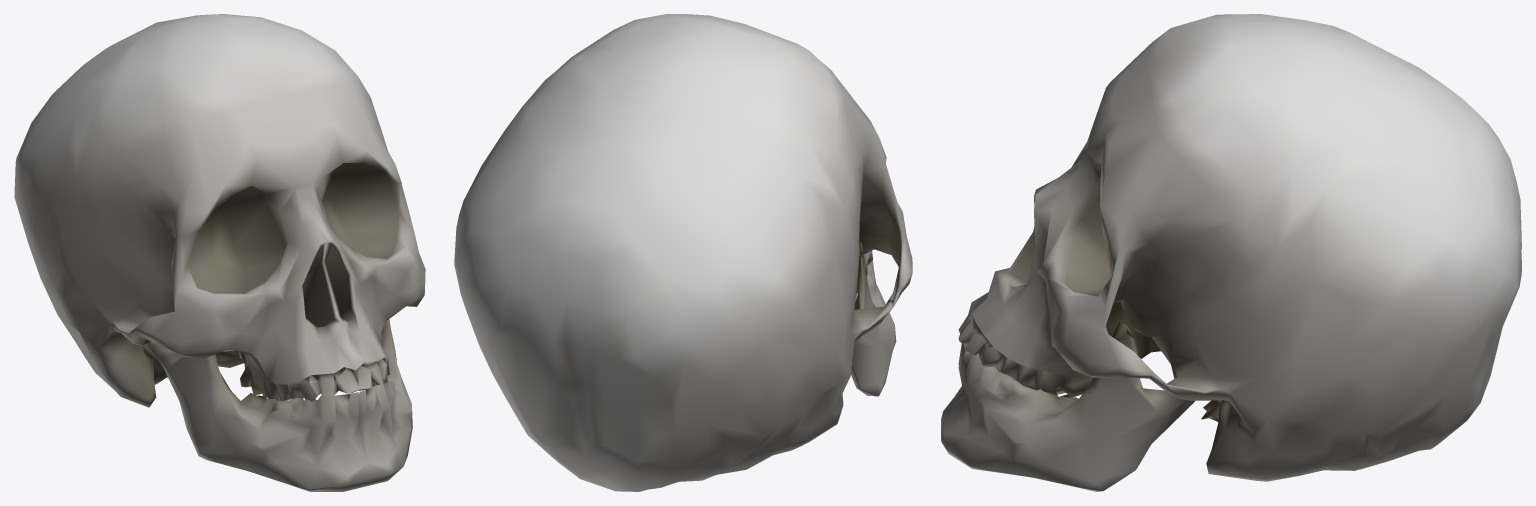
The model's file is animals-animalparts-skeleton_v19.glb.
3 views of the same model, side by side, from view 1: azimuth 30°, elevation 25°; view 2: azimuth 150°, elevation 25°; view 3: azimuth 270°, elevation 25° (orthographic). The views are drawn at different scales.
Visible parts, largest first — view 1: Skeleton_v19; view 2: Skeleton_v19; view 3: Skeleton_v19.
Boxes of the visible parts, bbox=[...] form: Skeleton_v19: bbox=[14, 14, 425, 491]; Skeleton_v19: bbox=[454, 14, 912, 491]; Skeleton_v19: bbox=[941, 14, 1521, 491].
Bounding box in the file's own units: 0.1722 × 0.1918 × 0.2452.
